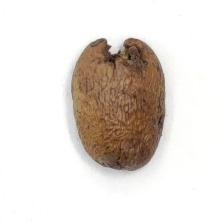NG: (86, 80, 155, 154), (89, 39, 157, 71)
